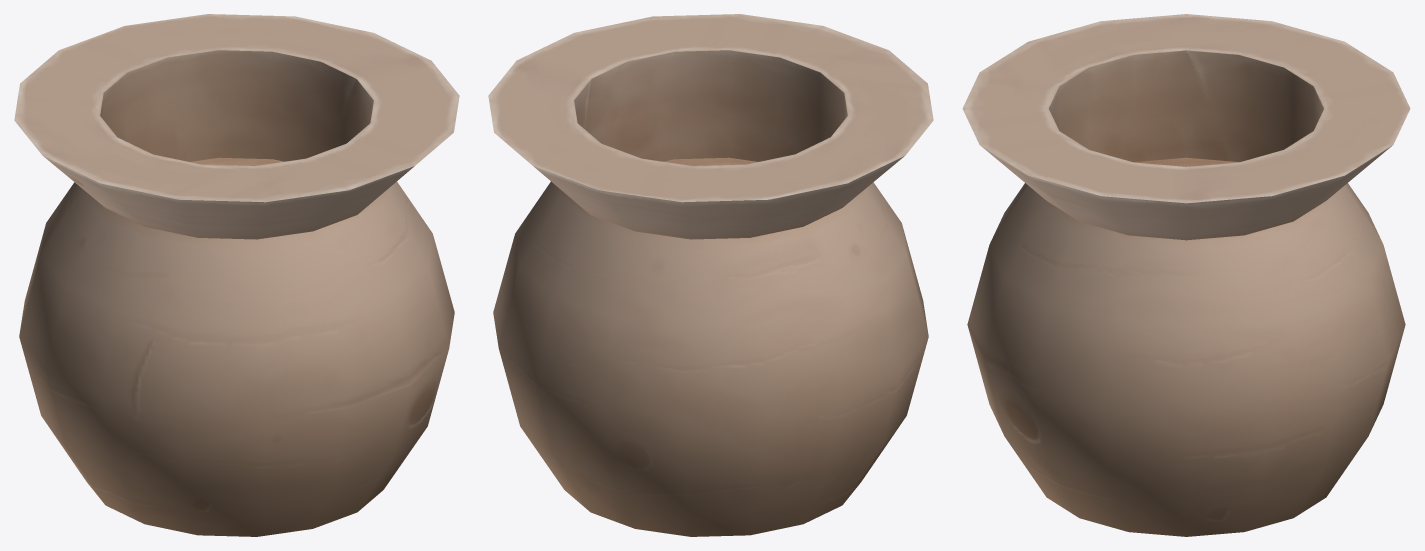
Rendered from Wazon.fbx.
3 views of the same model, side by side, from view 1: azimuth 30°, elevation 25°; view 2: azimuth 150°, elevation 25°; view 3: azimuth 270°, elevation 25° (orthographic).
Visible parts, largest first — view 1: Wazon_02; view 2: Wazon_02; view 3: Wazon_02.
Boxes of the visible parts, bbox=[...] form: Wazon_02: bbox=[14, 14, 459, 536]; Wazon_02: bbox=[488, 14, 933, 536]; Wazon_02: bbox=[962, 14, 1410, 536].
Bounding box in the file's own units: 2.74 × 2.46 × 2.74.
1 material, 1 textured.
